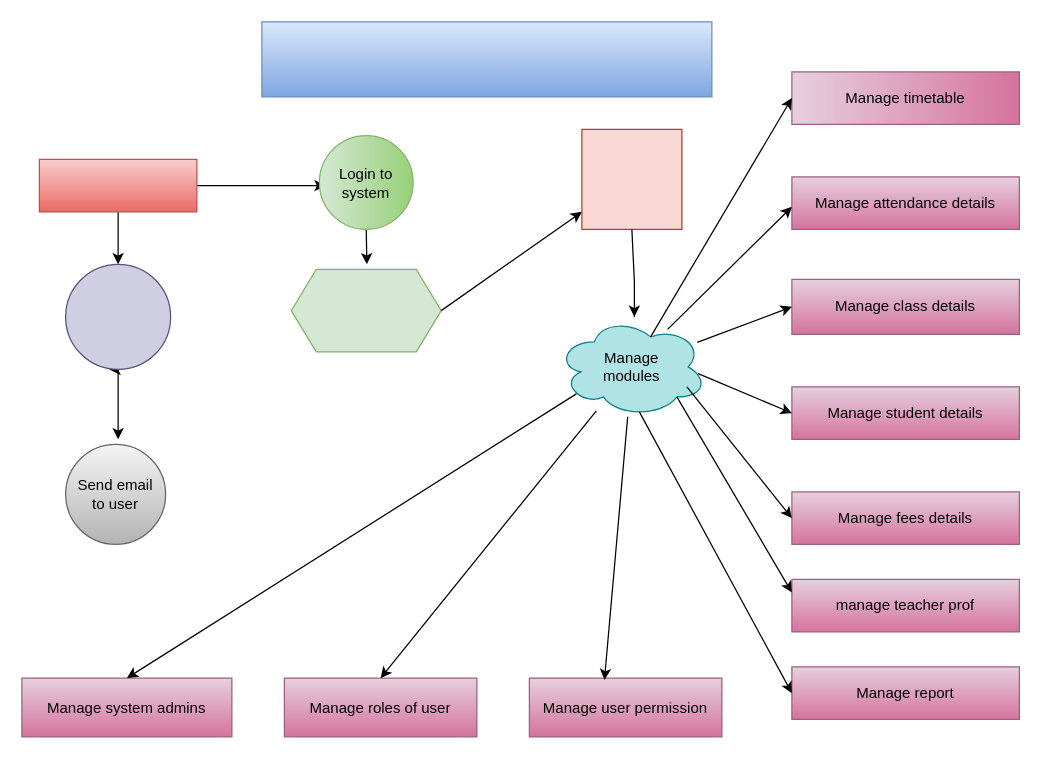
Some shapes in this 1041 by 759 pixel diagram are drawn without their labels. The box of each missing label's shape, as (x1, y1, x2, y2) in pixels:
Admin: (38, 158, 197, 212)
check credentials: (290, 268, 441, 352)
check roles of access: (581, 128, 682, 229)
Forgot password: (64, 263, 171, 369)
Student Information System: (261, 21, 712, 97)
